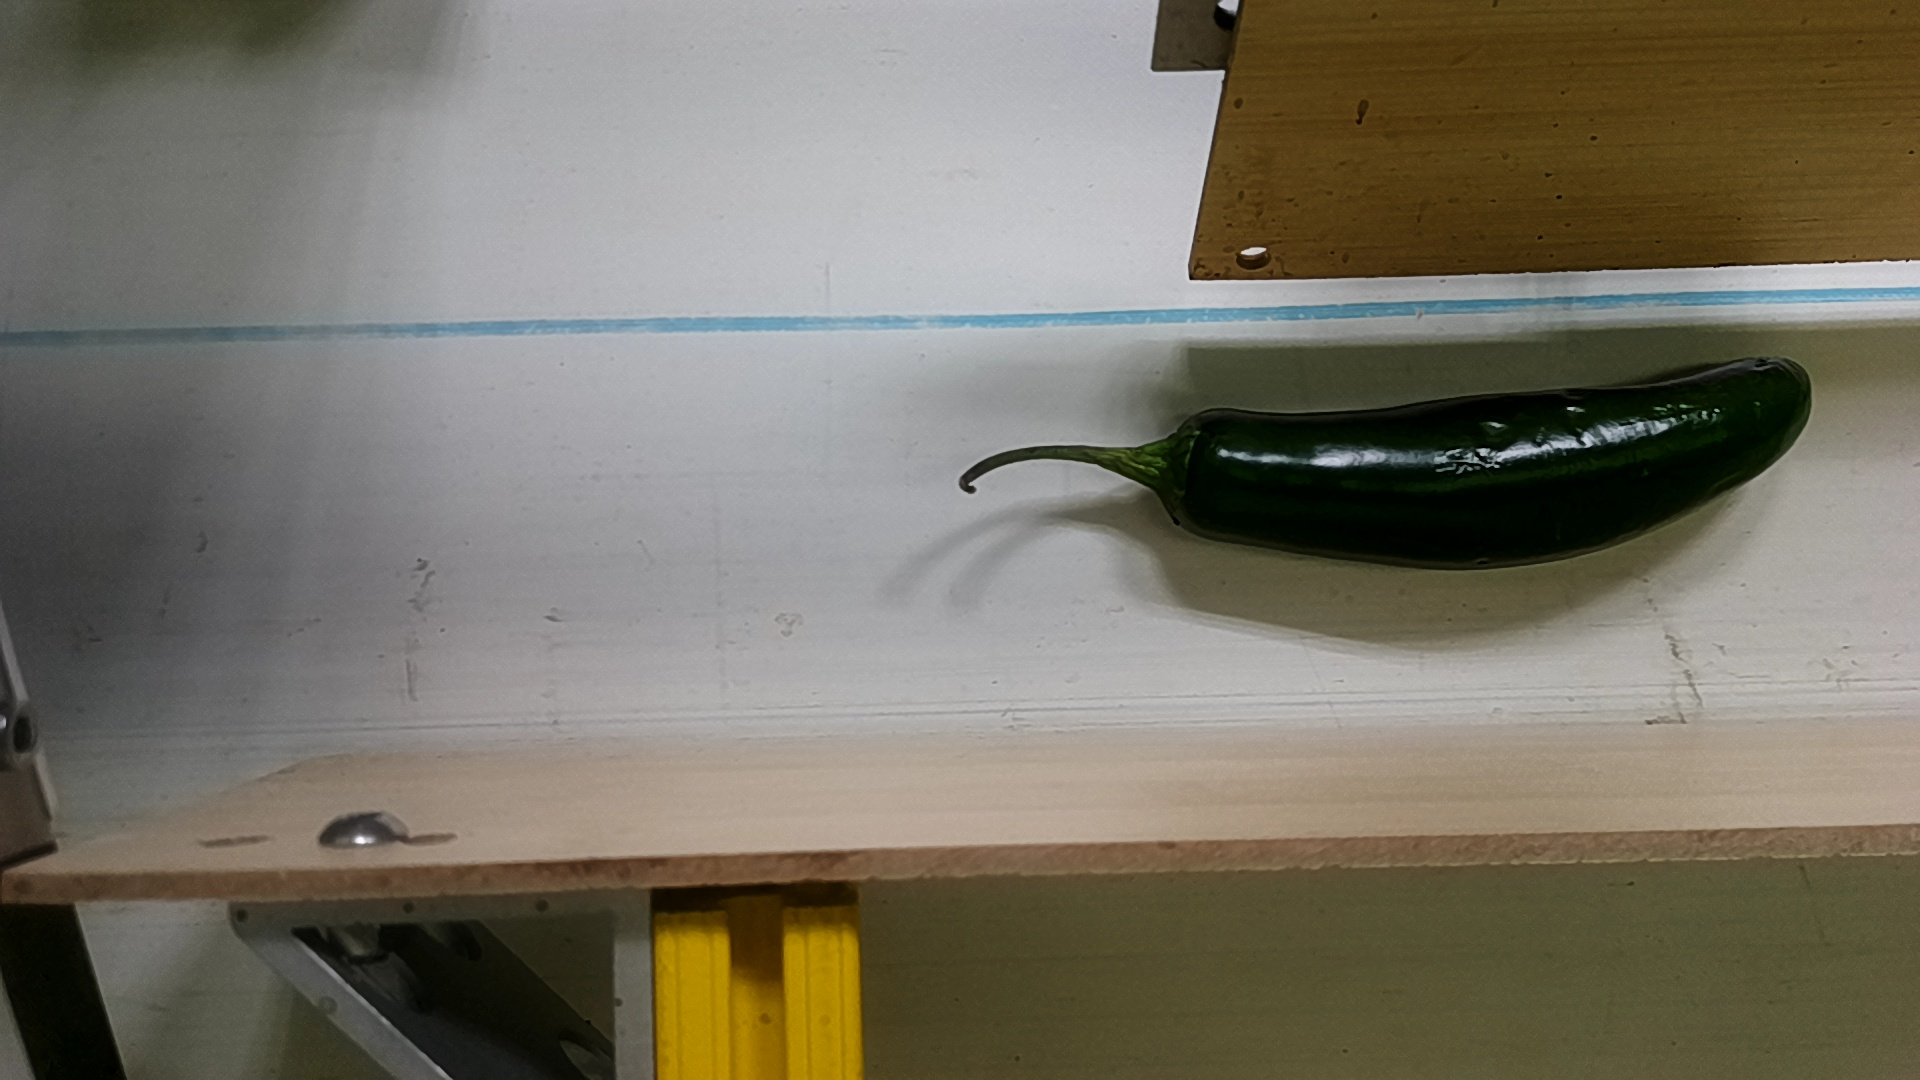Cut Point: (1142, 402, 1242, 537)
